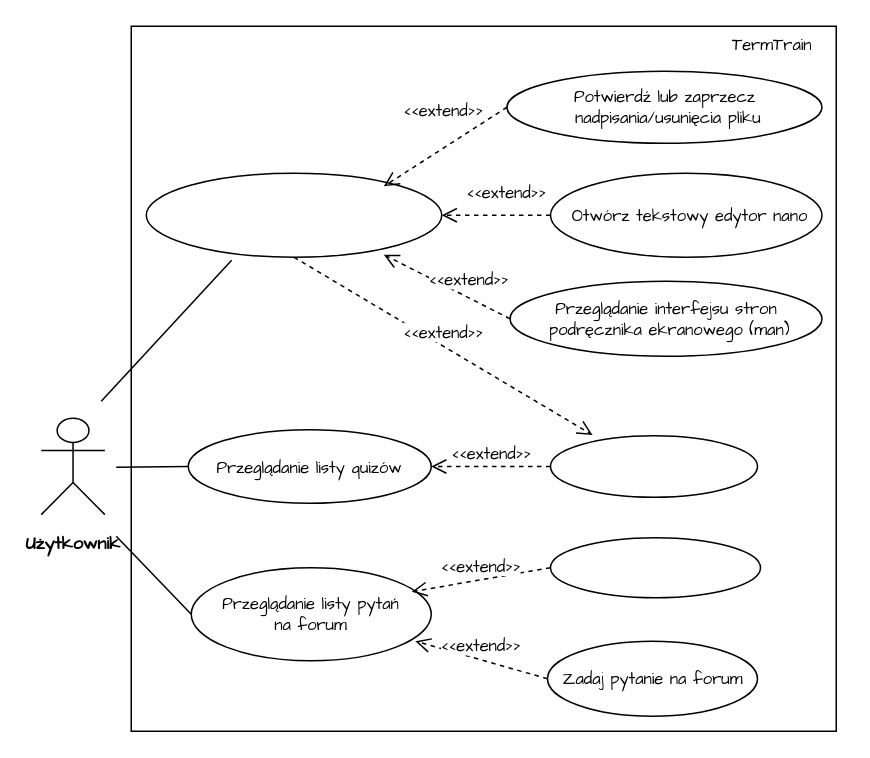
Some shapes in this 870 by 758 pixel diagram are drawn without their labels. Each missing label, with the centre of its shape:
"Dodaj komentarz do pytania" belongs at pixel 654 567.
"Rozwiązywanie quizu" belongs at pixel 653 465.
"Wprowadź polecenie w terminalu" belongs at pixel 293 214.
